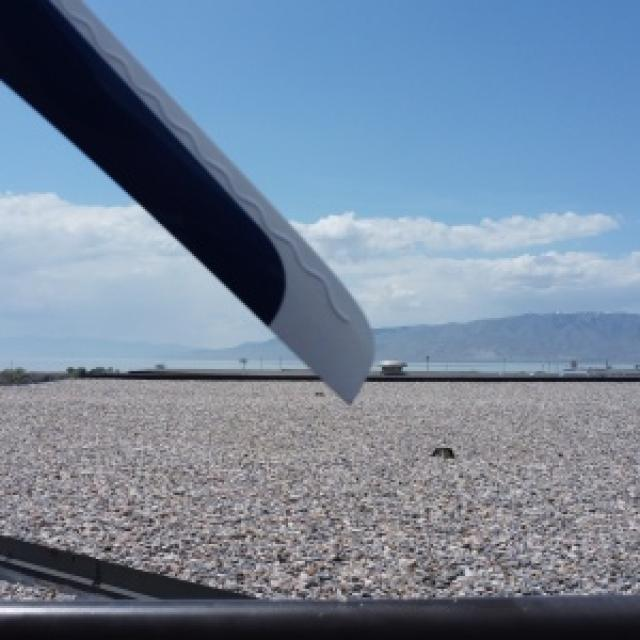healthy: (0, 0, 371, 401)
